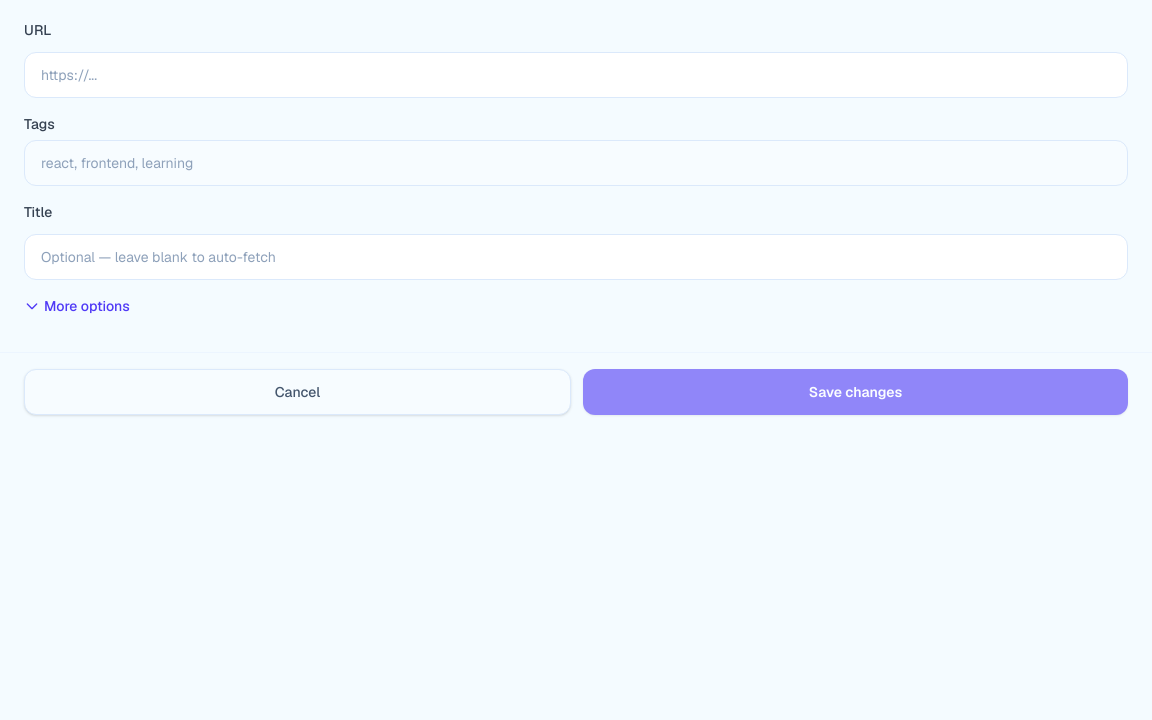
Test: LinkForm Tags placement › keeps a single Tags input above a single Title once the add form is expanded
Click the button "More options" at (77, 306), box x1=24 y1=296 x2=130 y2=316
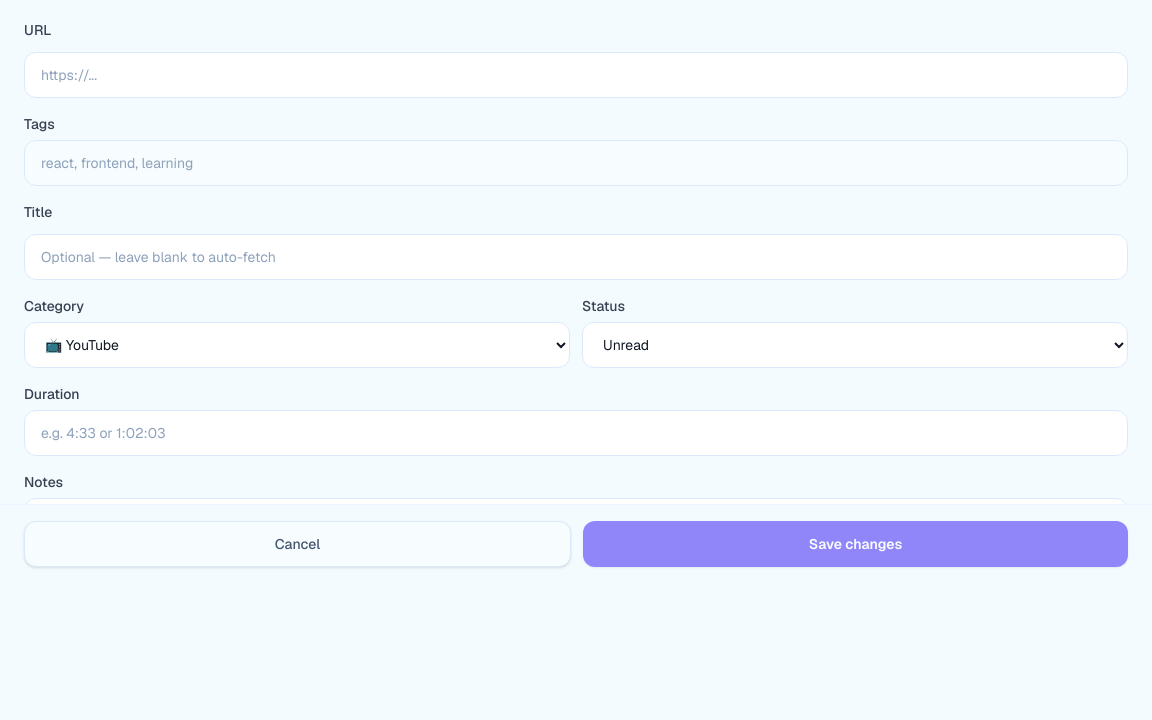
Expected: the number of fields labelled "Tags" is 1, x1=41 y1=153 x2=1111 y2=173
Expected: the number of fields labelled "Title" is 1, x1=24 y1=234 x2=1128 y2=280
